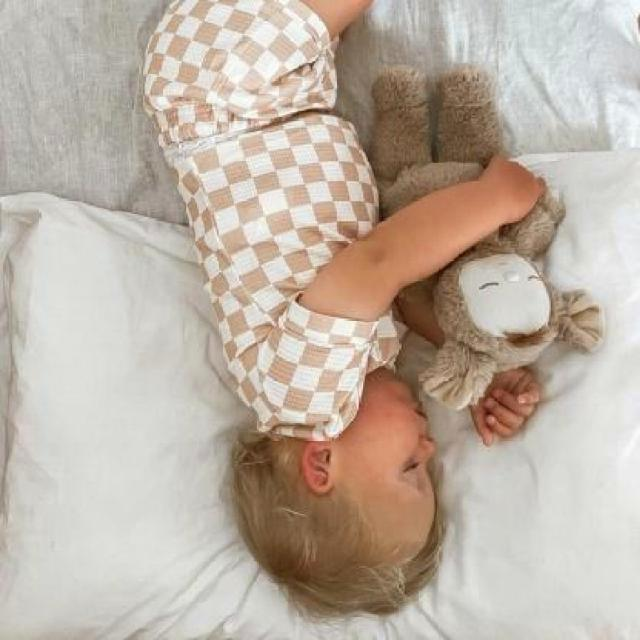child: (139, 1, 551, 617)
